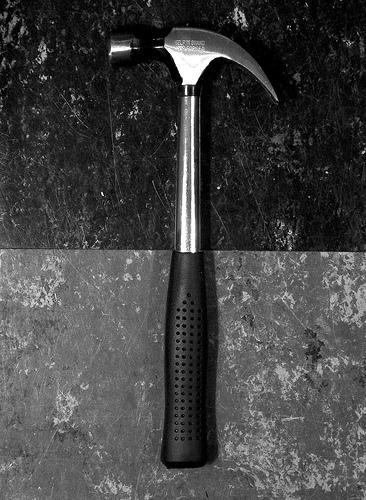hammer: (104, 22, 281, 472)
